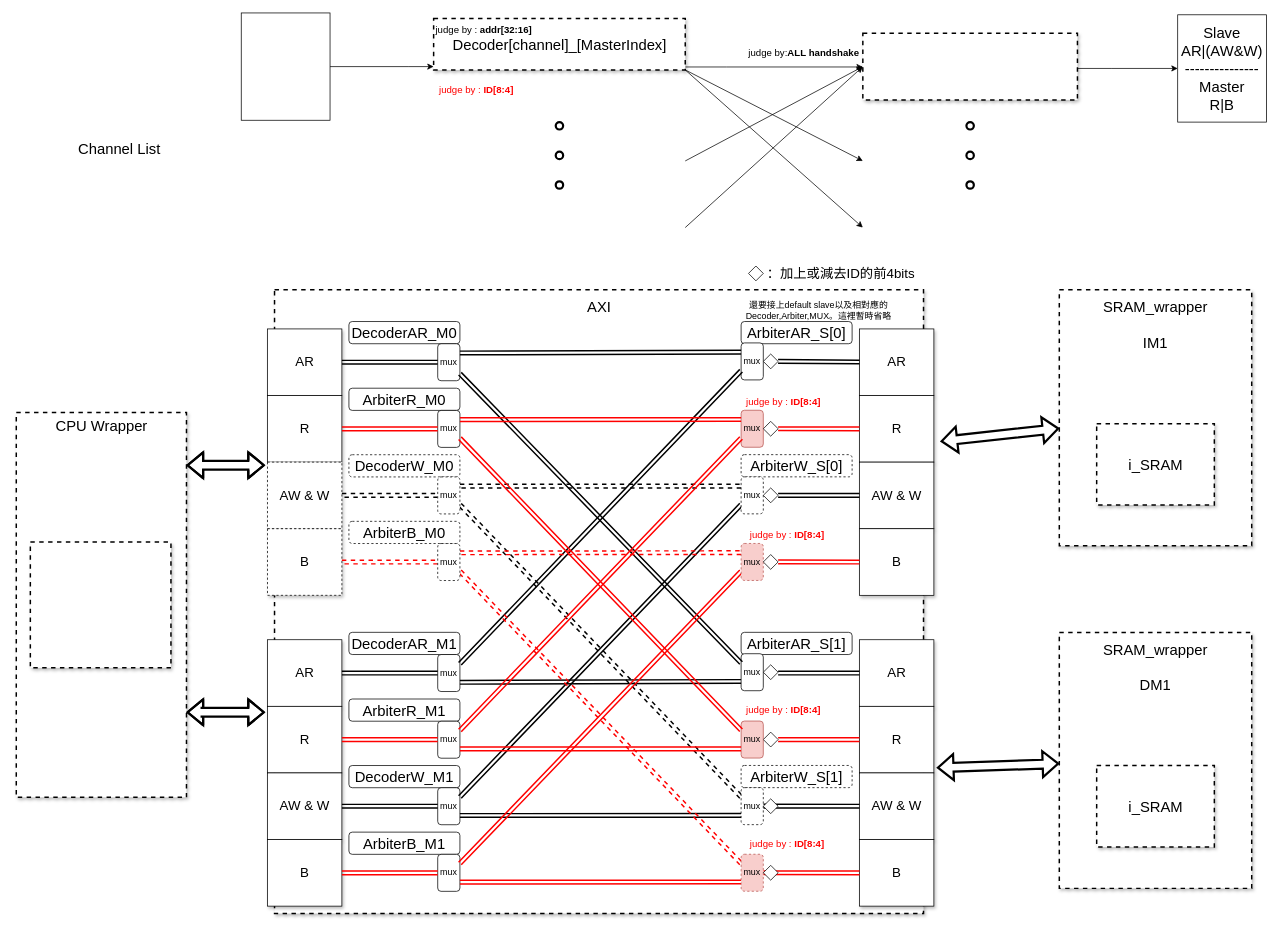
This 1279x932 diagram has some shape labels left out. Here are the shapes that lost their labels. From the top down, the centre of each, then its label:
At (x=285, y=66): "Master AR|(AW&W) --------------- Slave R|B".
At (x=970, y=67): "Arbiter[channel]_[SlaveIndex]".
At (x=101, y=605): "CPU".
